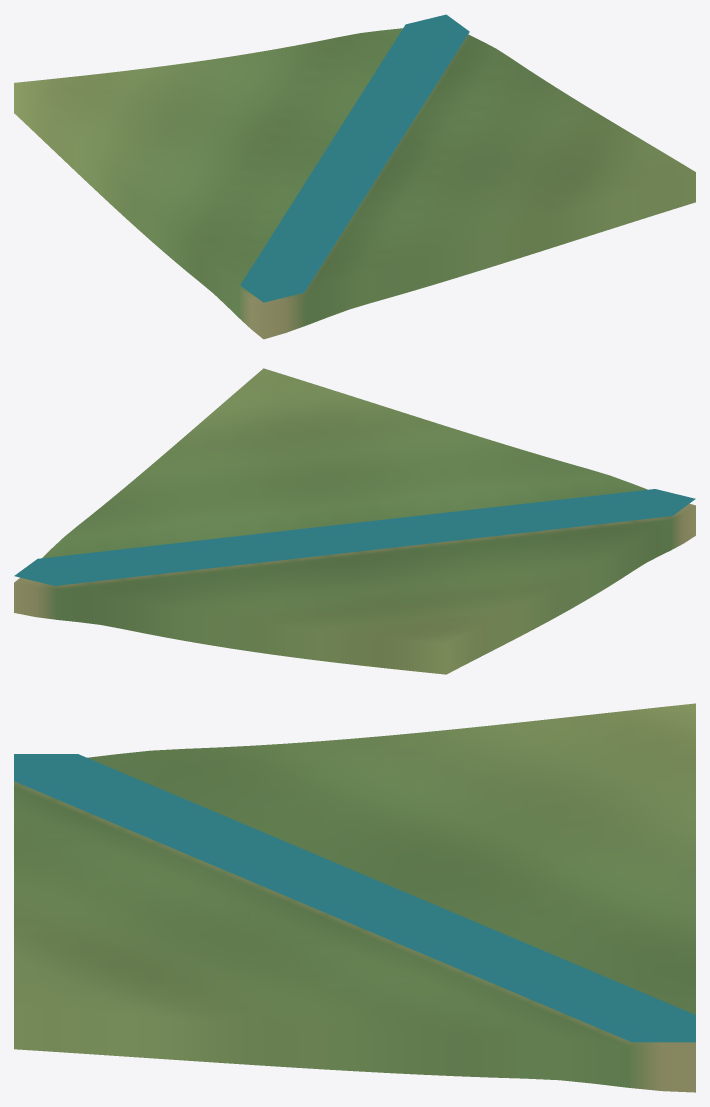
The picture shows the model from 3 angles, top to bottom: view 1: azimuth 30°, elevation 25°; view 2: azimuth 150°, elevation 25°; view 3: azimuth 270°, elevation 25°; orthographic projection. The views are drawn at different scales.
Parts seen in each view (by area): view 1: terrain, scenery; view 2: terrain, scenery; view 3: terrain, scenery.
Boxes of the visible parts, x1,y1,x2,y2 form: terrain: (14, 28, 695, 339); scenery: (240, 14, 469, 302); terrain: (14, 368, 695, 674); scenery: (14, 489, 695, 585); terrain: (14, 703, 695, 1092); scenery: (14, 754, 695, 1042).
Size of the model in its own units: 30 by 4.9 by 30.
